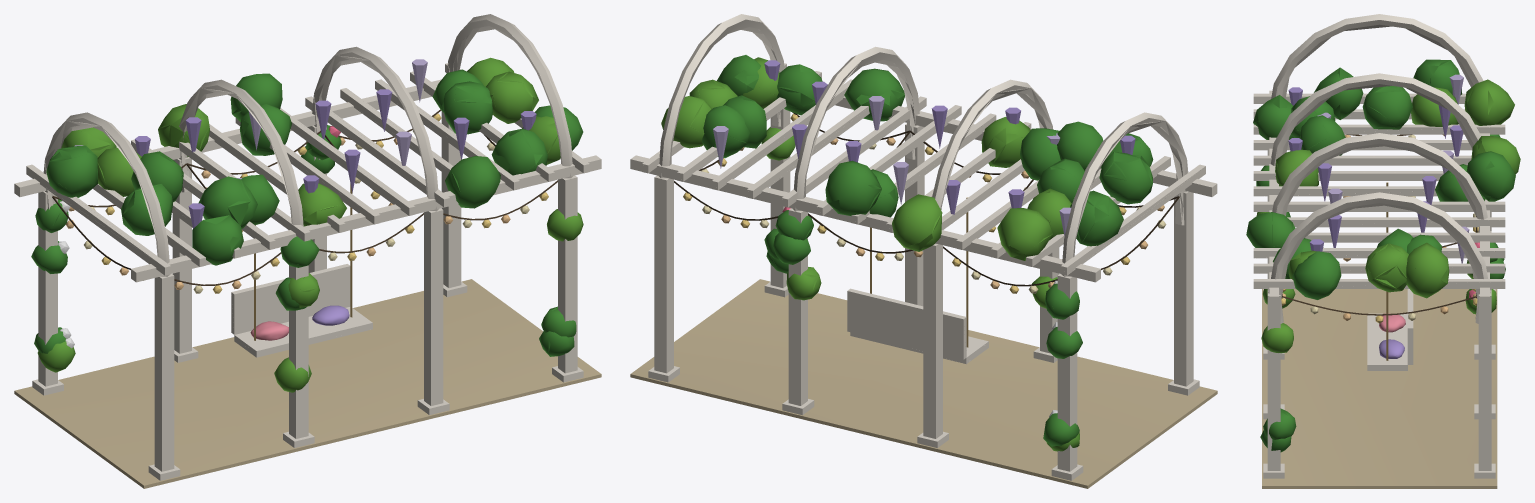
Rendered from arbor_of_lights.glb.
The picture shows the model from 3 angles, left to right: view 1: azimuth 30°, elevation 25°; view 2: azimuth 150°, elevation 25°; view 3: azimuth 270°, elevation 25°; orthographic projection. The views are drawn at different scales.
Visible parts, largest first — view 1: decor-arbor_of_lights, decor-arbor_of_lights-far; view 2: decor-arbor_of_lights, decor-arbor_of_lights-far; view 3: decor-arbor_of_lights, decor-arbor_of_lights-far.
Boxes of the visible parts, bbox=[...] form: decor-arbor_of_lights: bbox=[14, 14, 601, 488]; decor-arbor_of_lights-far: bbox=[14, 19, 601, 485]; decor-arbor_of_lights: bbox=[630, 14, 1217, 488]; decor-arbor_of_lights-far: bbox=[630, 19, 1217, 480]; decor-arbor_of_lights: bbox=[1246, 14, 1520, 488]; decor-arbor_of_lights-far: bbox=[1253, 24, 1515, 485].
Size of the model in its own units: 6.05 by 3.87 by 3.38.
